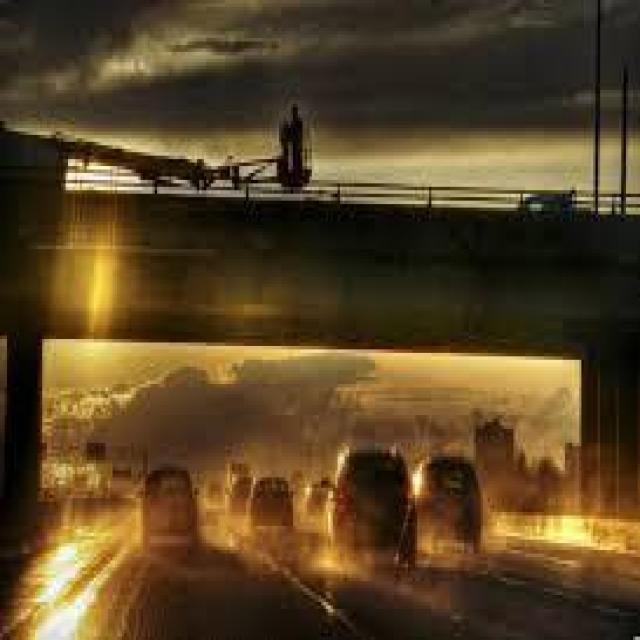other: (40, 225, 138, 393), (19, 524, 102, 610)
